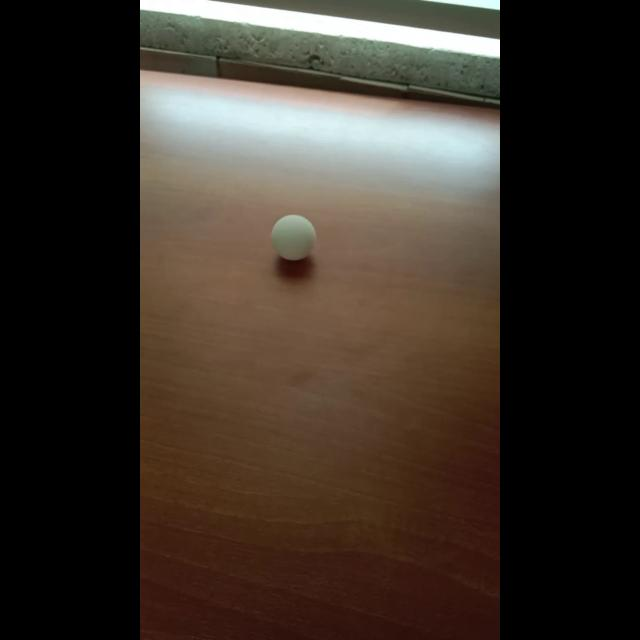white ball: (270, 213, 316, 261)
